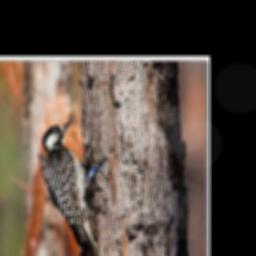Woodpecker: (33, 112, 117, 256)
